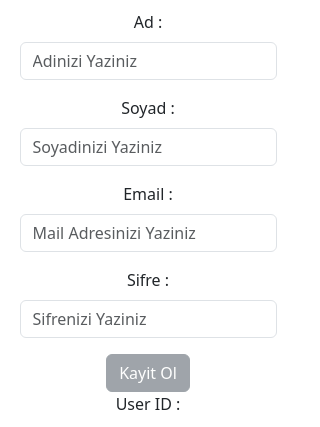
Tests › Validation › is button enable when all inputs are correct
In the field with test id "name-input": (149, 61) 20,42 -> 277,80, type "deneme"
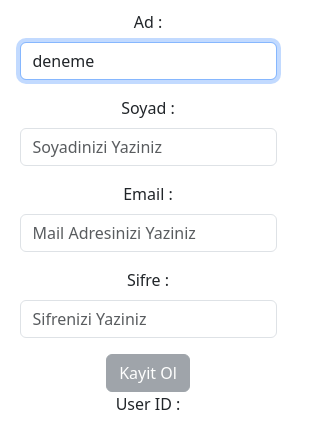
In the field with test id "surname-input": (149, 147) 20,128 -> 277,166, type "deneme"
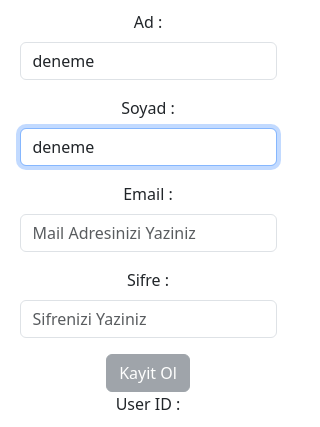
In the field with test id "email-input": (149, 233) 20,214 -> 277,252, type "deneme@gmail.com"
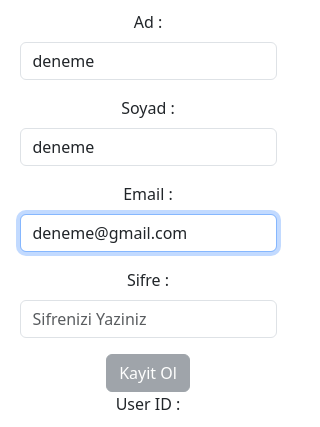
In the password field with test id "password-input": (149, 319) 20,300 -> 277,338, type "*Deneme123*"
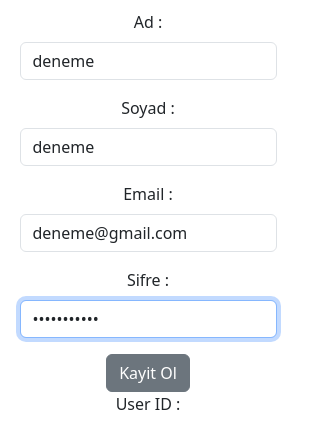
Expected: the button with test id "submit-input" is enabled, 106,354 -> 190,392
